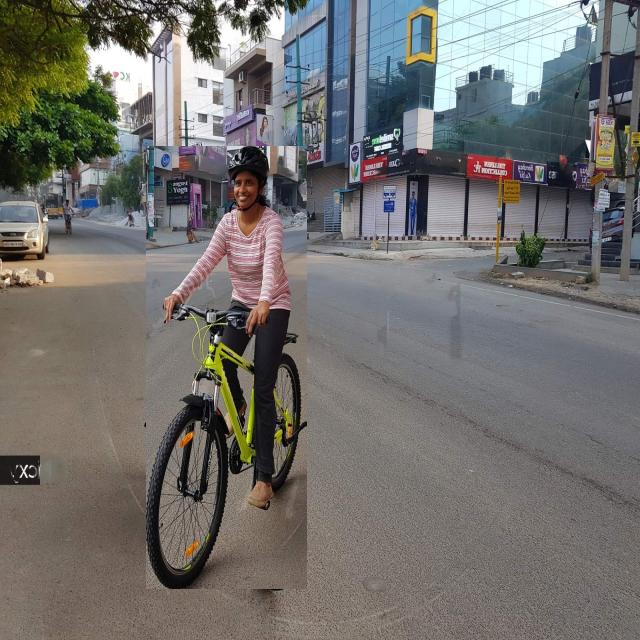bicycle: (146, 146, 306, 589)
car: (0, 202, 49, 258)
